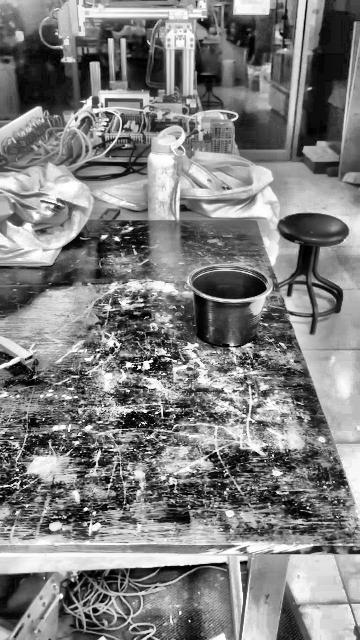pot: (188, 265, 275, 347)
